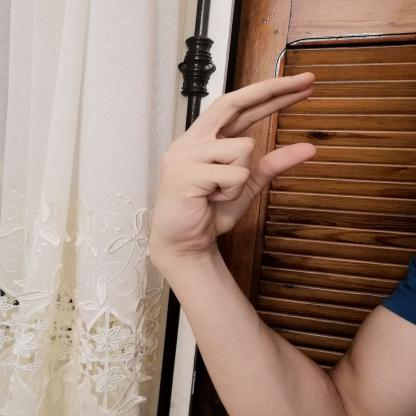DHELL: (130, 60, 335, 263)
